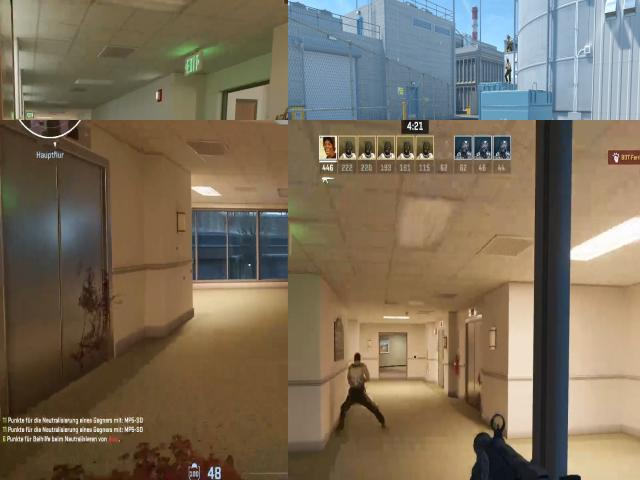T: (344, 350, 369, 396), (505, 59, 511, 82), (507, 36, 511, 51)
T-Head: (351, 352, 363, 369), (506, 59, 510, 63), (508, 36, 510, 39)
